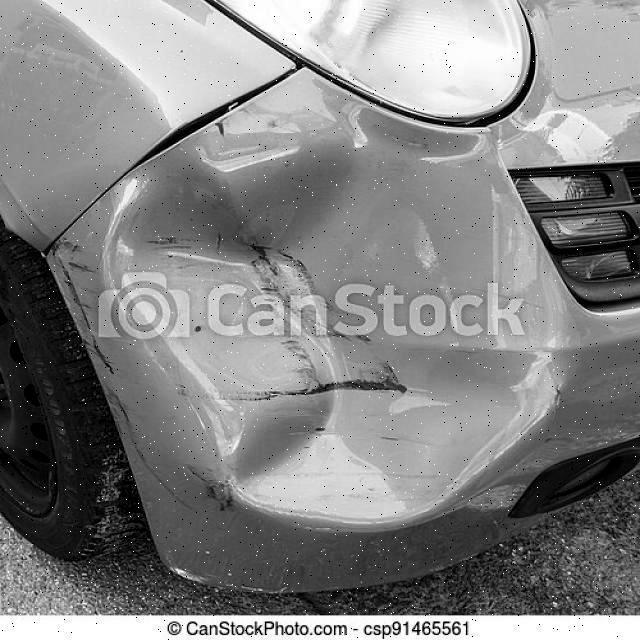front-bumper-dent: (62, 72, 639, 601)
